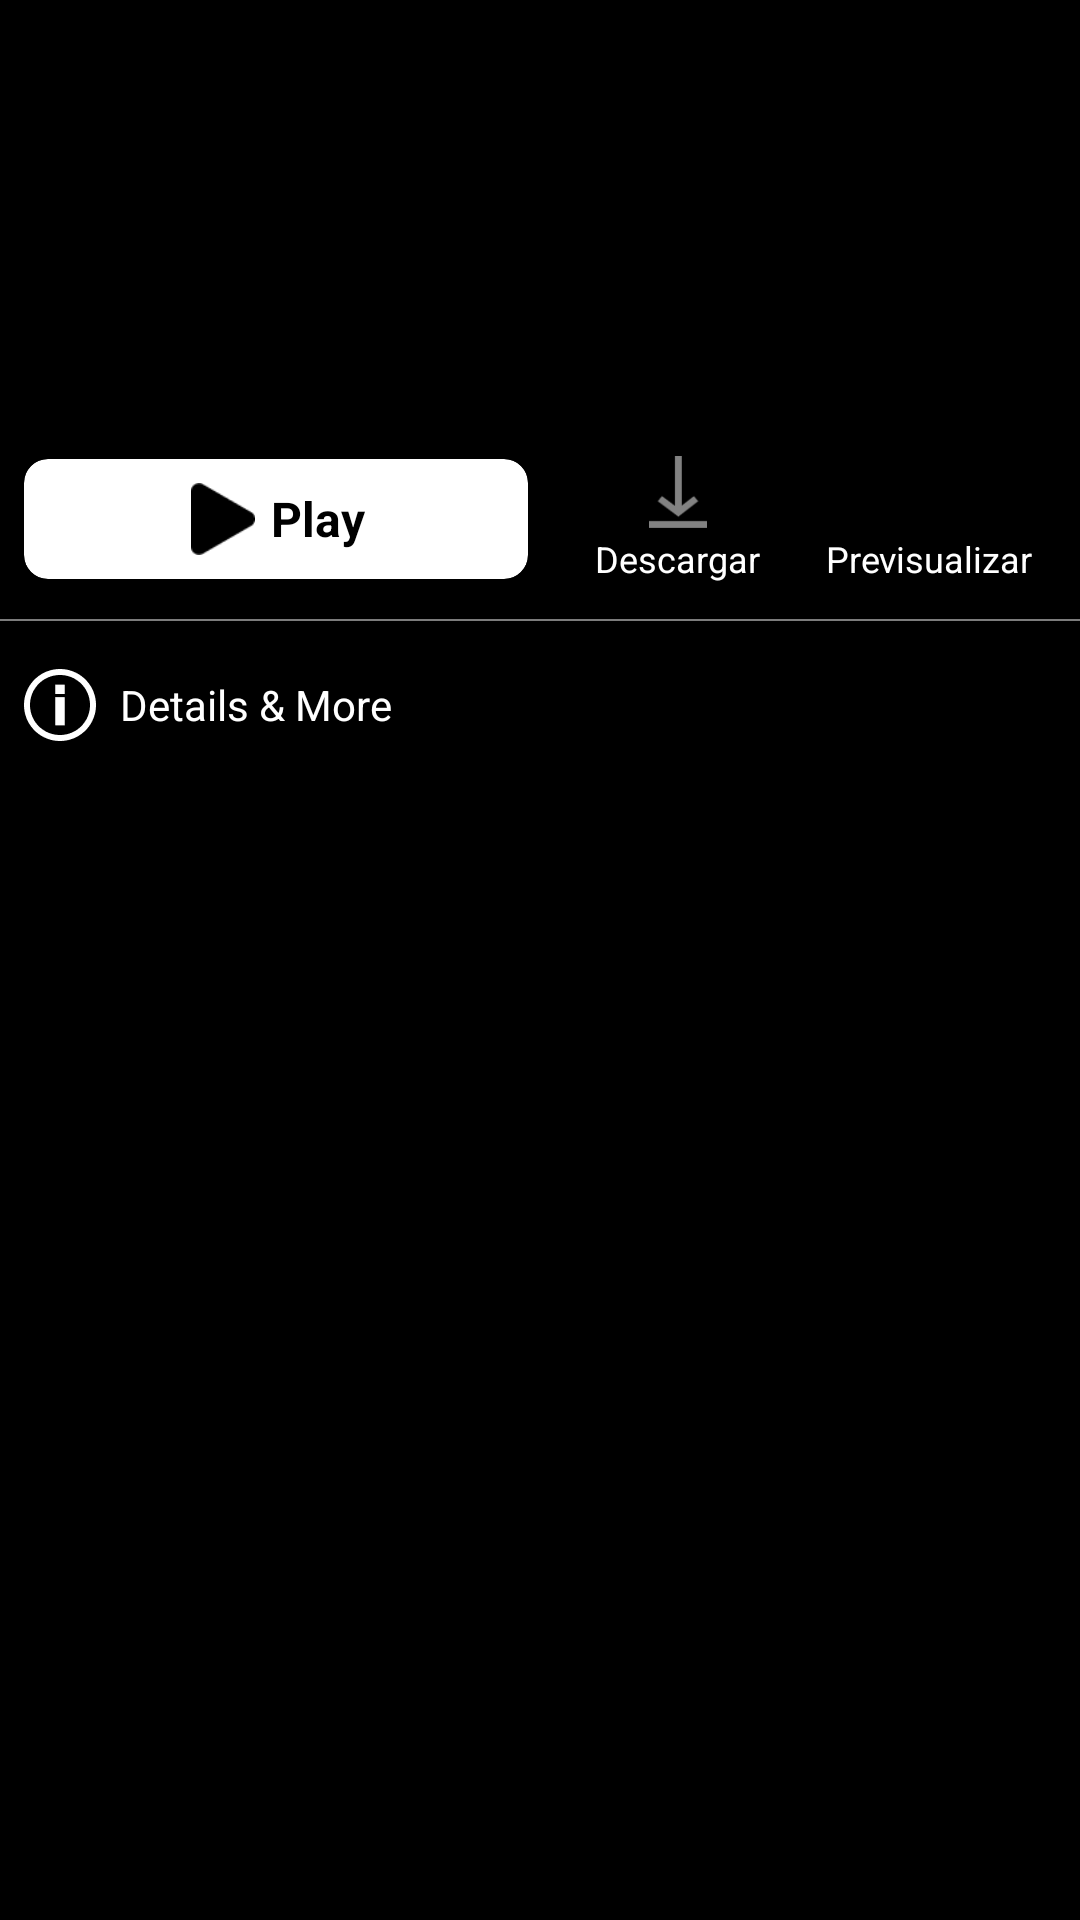

Icon bounding boxes for this 1080px×1920px phone screenshot, format [left=x1, top=y1, right=x2, bottom=y2]:
info: [left=24, top=669, right=96, bottom=741]
